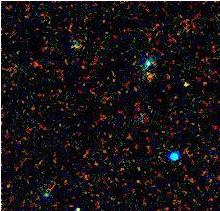star: (170, 67, 200, 97)
